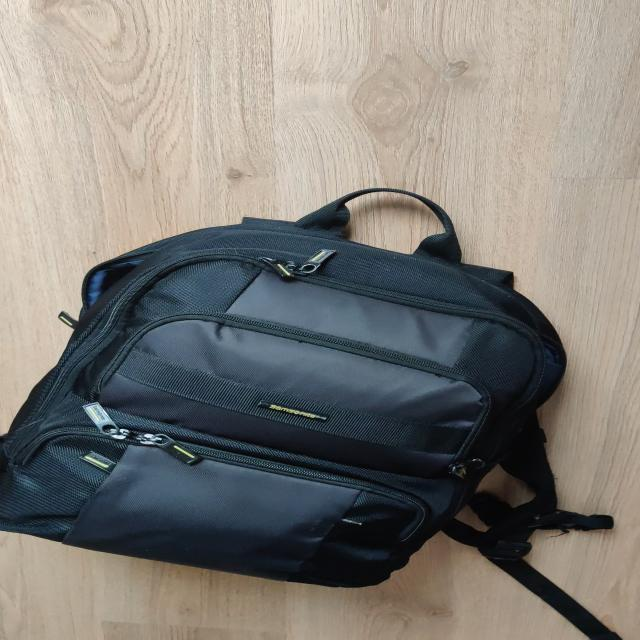backpack: (0, 182, 599, 596)
